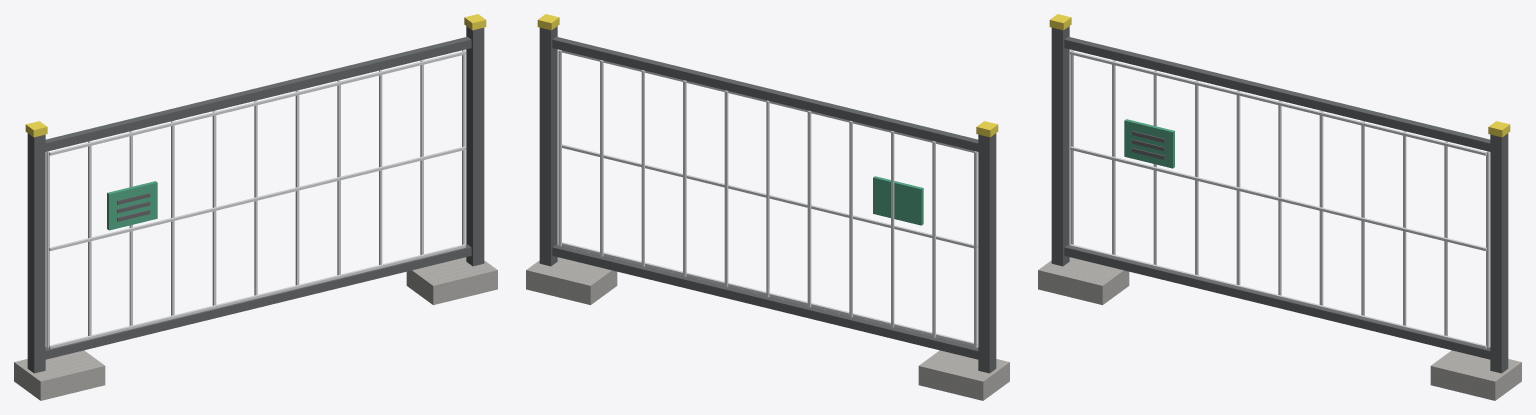
Rendered from recycling-and-waste-transfer-yard-recycling-and-waste--abf4b90a__34925.glb.
The picture shows the model from 3 angles, left to right: view 1: azimuth 30°, elevation 25°; view 2: azimuth 150°, elevation 25°; view 3: azimuth 330°, elevation 25°; orthographic projection.
Visible parts, largest first — view 1: recycling-and-waste-transfer-yard-site-fence-panel; view 2: recycling-and-waste-transfer-yard-site-fence-panel; view 3: recycling-and-waste-transfer-yard-site-fence-panel.
Boxes of the visible parts, x1,y1,x2,y2 form: recycling-and-waste-transfer-yard-site-fence-panel: (14, 14, 497, 400); recycling-and-waste-transfer-yard-site-fence-panel: (526, 14, 1009, 400); recycling-and-waste-transfer-yard-site-fence-panel: (1038, 14, 1521, 400).
Size of the model in its own units: 3.96 by 2.18 by 0.3998.
5 materials, 1 textured.
